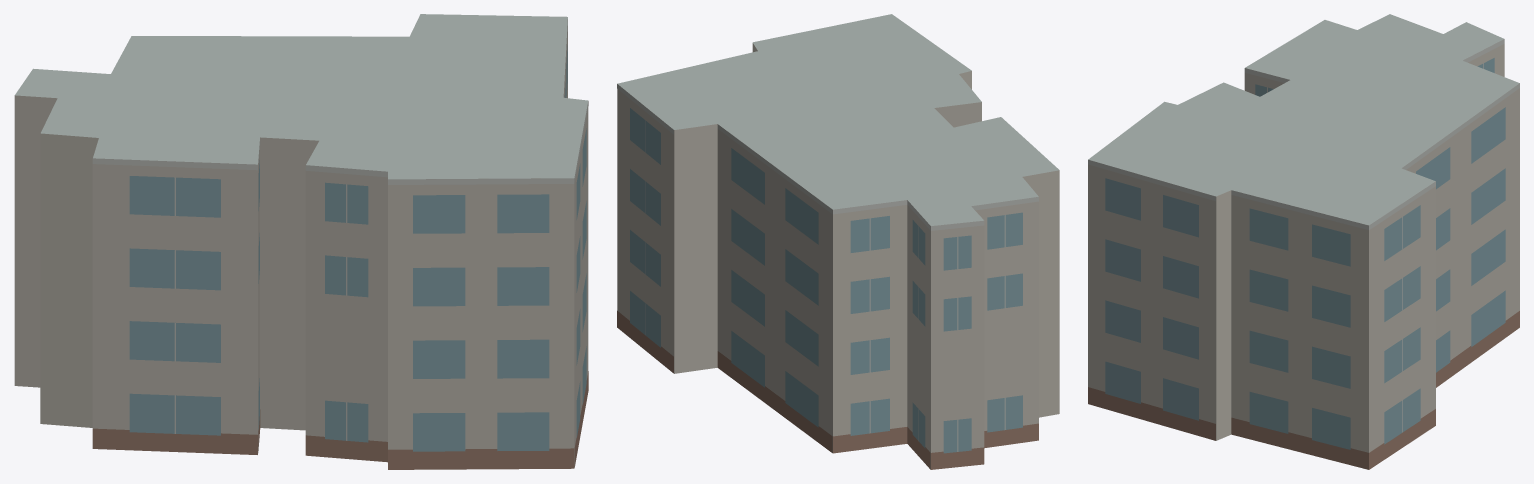
Rendered from survey-upis-32489075.glb.
3 views of the same model, side by side, from view 1: azimuth 30°, elevation 25°; view 2: azimuth 150°, elevation 25°; view 3: azimuth 270°, elevation 25° (orthographic). The views are drawn at different scales.
Visible parts, largest first — view 1: survey-upis-32489075.tmp; view 2: survey-upis-32489075.tmp; view 3: survey-upis-32489075.tmp.
Boxes of the visible parts, x1,y1,x2,y2 form: survey-upis-32489075.tmp: [14, 14, 588, 469]; survey-upis-32489075.tmp: [617, 14, 1059, 469]; survey-upis-32489075.tmp: [1088, 14, 1519, 469].
Bounding box in the file's own units: 23.17 × 12.48 × 19.99.
